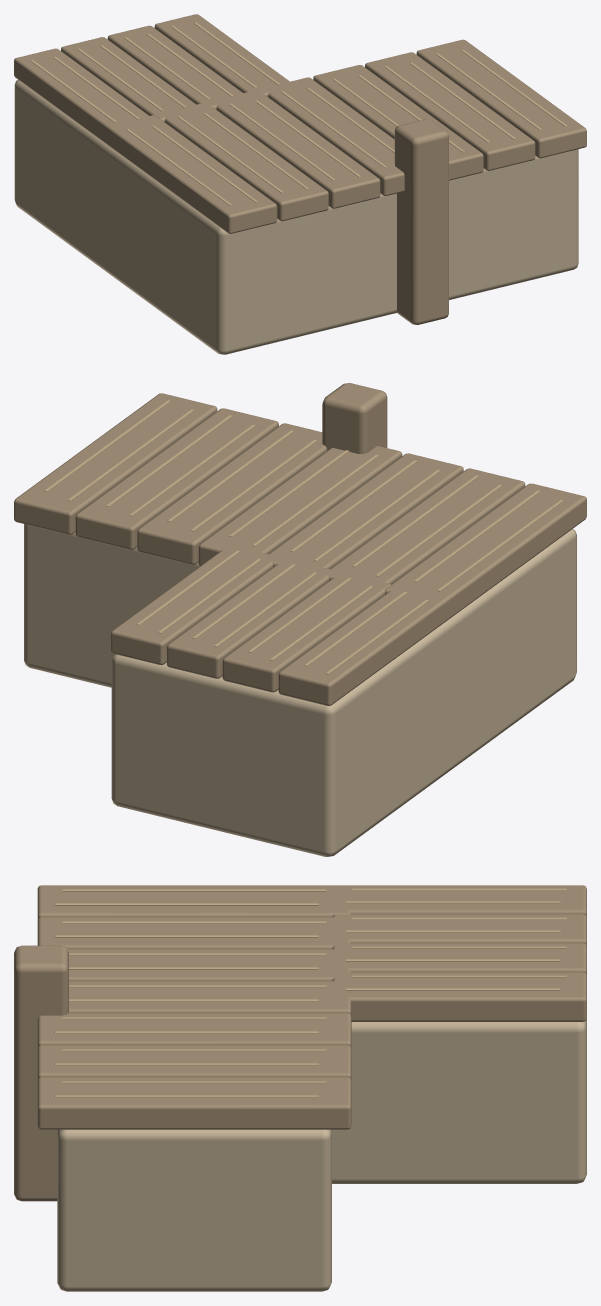
The model's file is coastal-saltworks-and-trade-port-coastal-saltworks-and-a4ac9bf0__31405.glb.
The picture shows the model from 3 angles, top to bottom: view 1: azimuth 30°, elevation 25°; view 2: azimuth 150°, elevation 25°; view 3: azimuth 270°, elevation 25°; orthographic projection. The views are drawn at different scales.
Visible parts, largest first — view 1: coastal-saltworks-and-trade-port-quay-edge-corner; view 2: coastal-saltworks-and-trade-port-quay-edge-corner; view 3: coastal-saltworks-and-trade-port-quay-edge-corner.
Part boxes in pixels (bbox=[...]): coastal-saltworks-and-trade-port-quay-edge-corner: bbox=[14, 14, 586, 354]; coastal-saltworks-and-trade-port-quay-edge-corner: bbox=[14, 383, 586, 856]; coastal-saltworks-and-trade-port-quay-edge-corner: bbox=[14, 885, 586, 1291].
Size of the model in its own units: 1.35 by 0.67 by 1.46.
